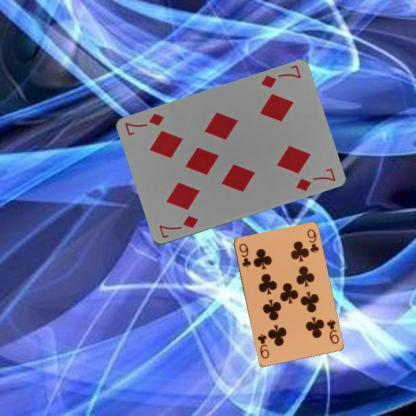7d: (258, 63, 302, 90), (156, 213, 199, 240)
9c: (324, 316, 340, 346), (236, 240, 252, 269)
